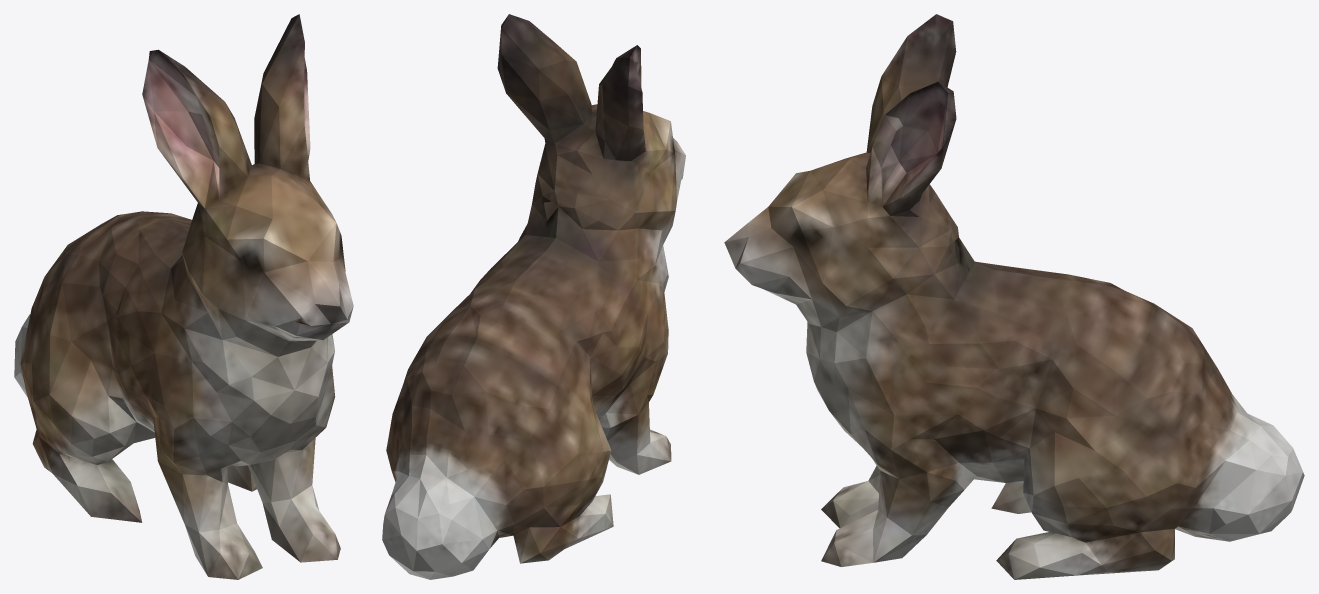
File: r32_tier_hase.glb
The picture shows the model from 3 angles, left to right: view 1: azimuth 30°, elevation 25°; view 2: azimuth 150°, elevation 25°; view 3: azimuth 270°, elevation 25°; orthographic projection. The views are drawn at different scales.
Visible parts, largest first — view 1: hase; view 2: hase; view 3: hase.
Boxes of the visible parts, x1=… form: hase: x1=14, y1=14, x2=353, y2=579; hase: x1=382, y1=14, x2=685, y2=579; hase: x1=724, y1=14, x2=1304, y2=579.
Bounding box in the file's own units: 0.4458 × 1 × 1.07.
Materials: 1 (1 with a texture image).
